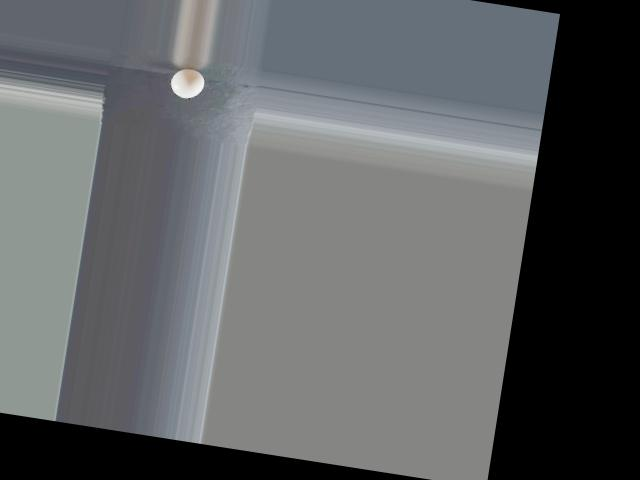egg: (169, 66, 206, 101)
